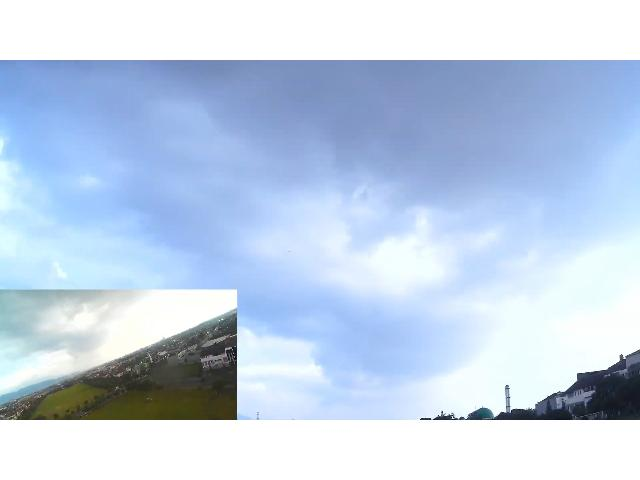Anti-Drone: (281, 248, 303, 258)
